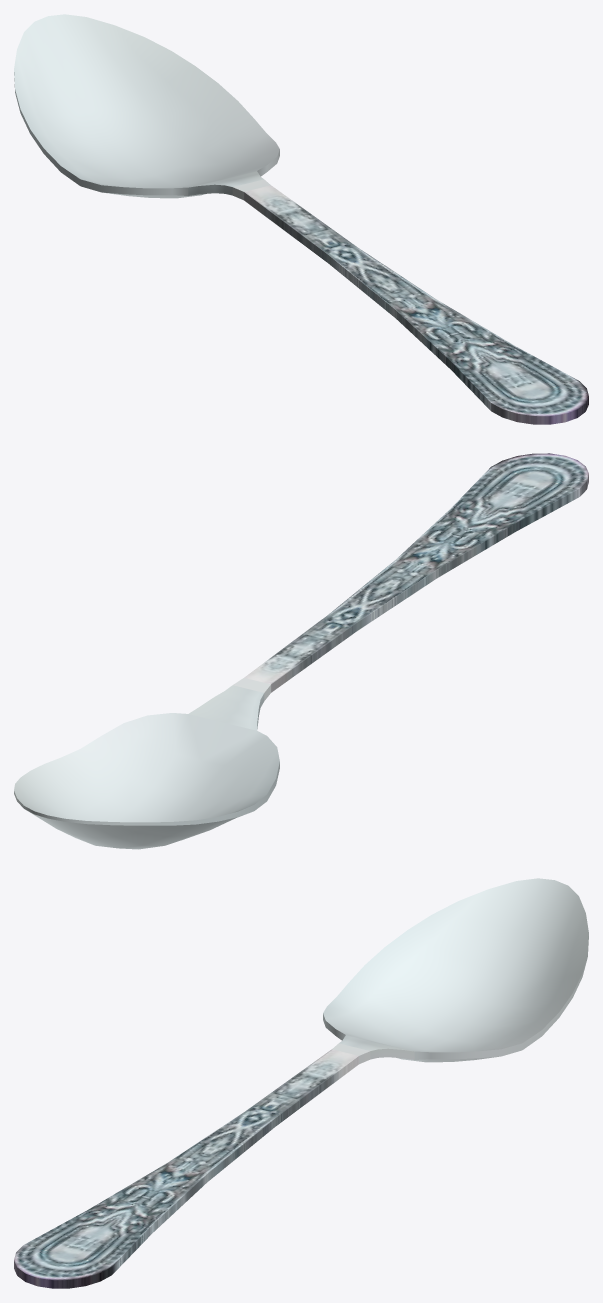
File: spoon_B.fbx
3 views of the same model, one above another, from view 1: azimuth 30°, elevation 25°; view 2: azimuth 150°, elevation 25°; view 3: azimuth 330°, elevation 25° (orthographic).
Parts seen in each view (by area): view 1: Spoon_B; view 2: Spoon_B; view 3: Spoon_B.
Boxes of the visible parts, x1,y1,x2,y2 form: Spoon_B: (14,14,588,424); Spoon_B: (14,453,588,849); Spoon_B: (14,878,588,1288).
Size of the model in its own units: 2.09 by 0.9241 by 9.62.
Materials: 1 (1 with a texture image).
